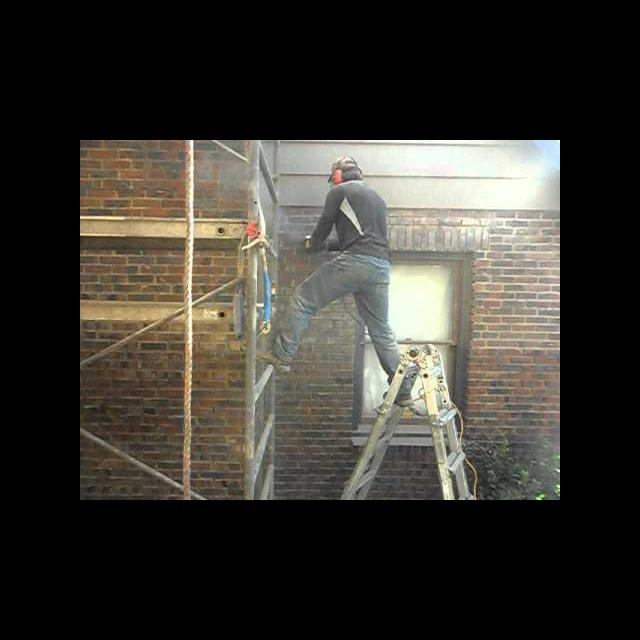Ladder: (341, 343, 475, 500)
NO-Hardhat: (330, 155, 361, 171)
NO-Safety Vest: (333, 180, 393, 263)
Person: (249, 154, 415, 407)
